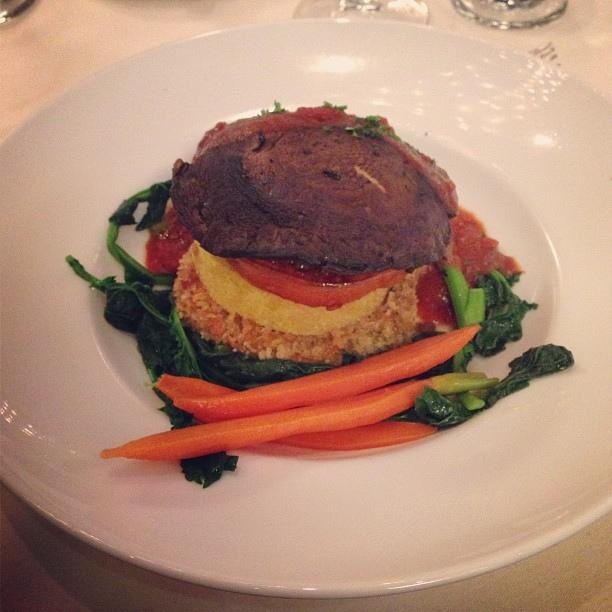carrot: (100, 372, 500, 460), (174, 324, 480, 425), (154, 374, 438, 452)
tomato: (230, 256, 406, 310), (474, 237, 498, 266)
